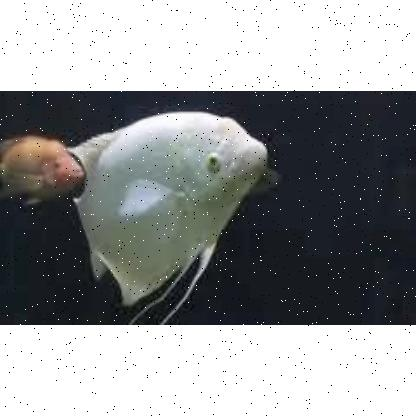gurame: (74, 111, 270, 307)
